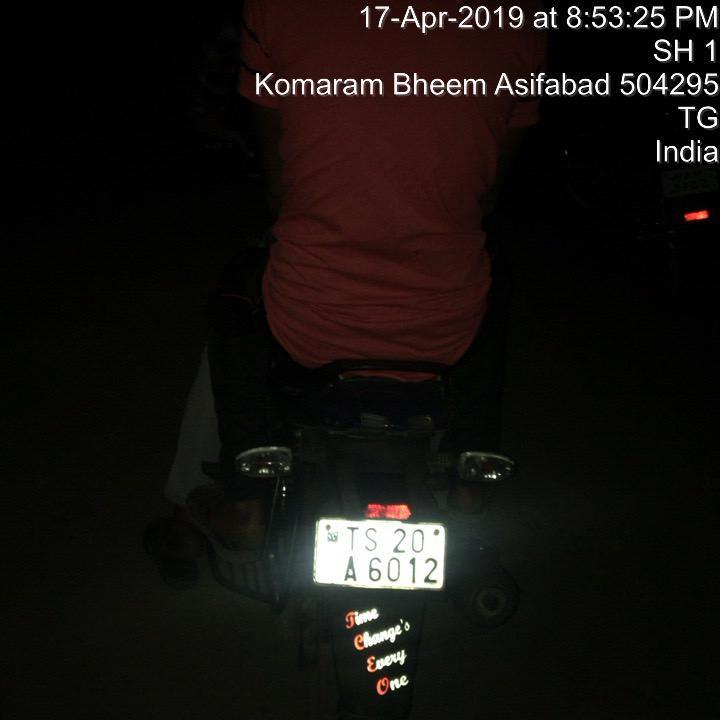plate: (300, 500, 460, 606)
